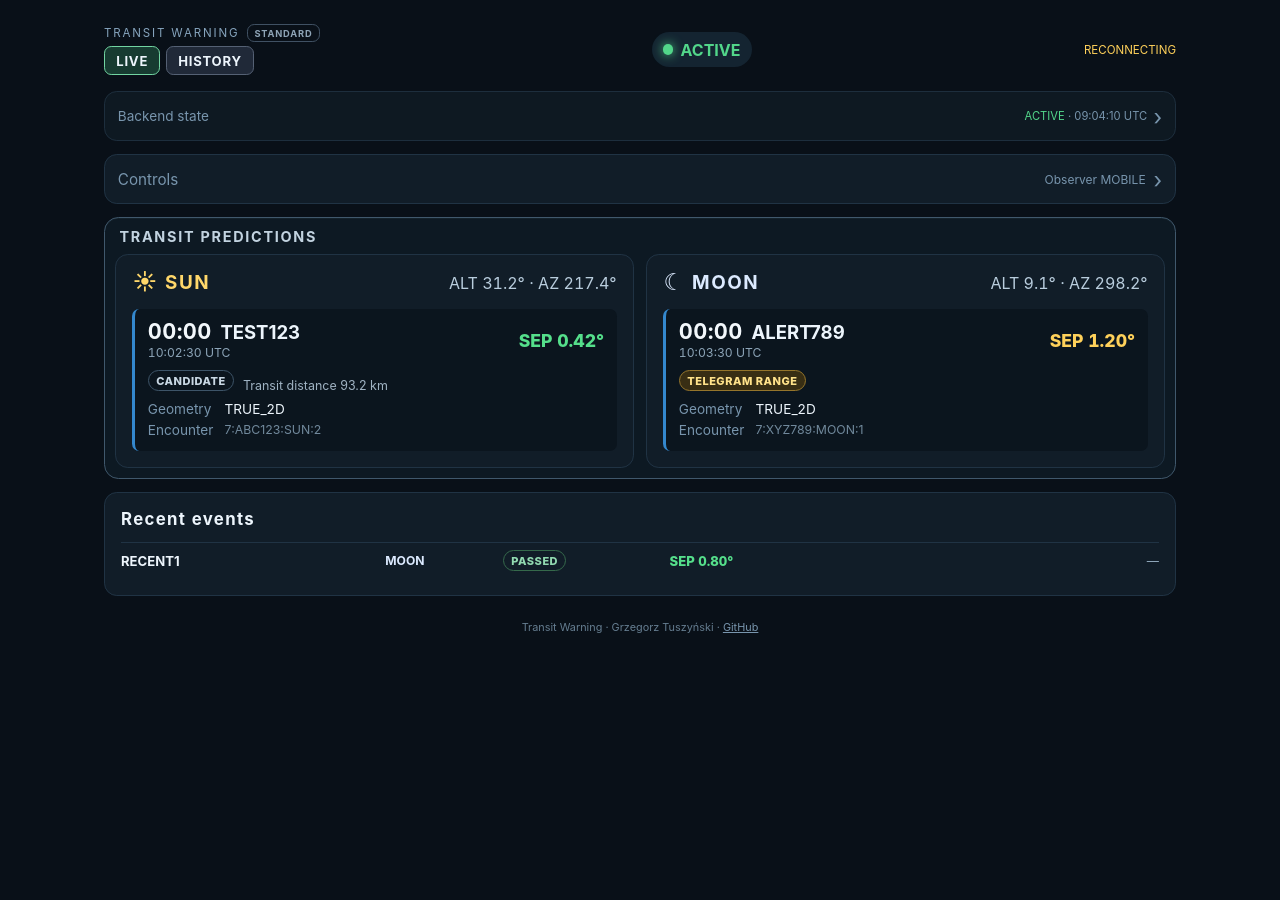
synchronized operational controls › surfaces browser GPS permission errors and clears the watch on cleanup
Click the button with aria-label "Expand Controls panel" at (148, 179), box [105, 155, 1175, 203]
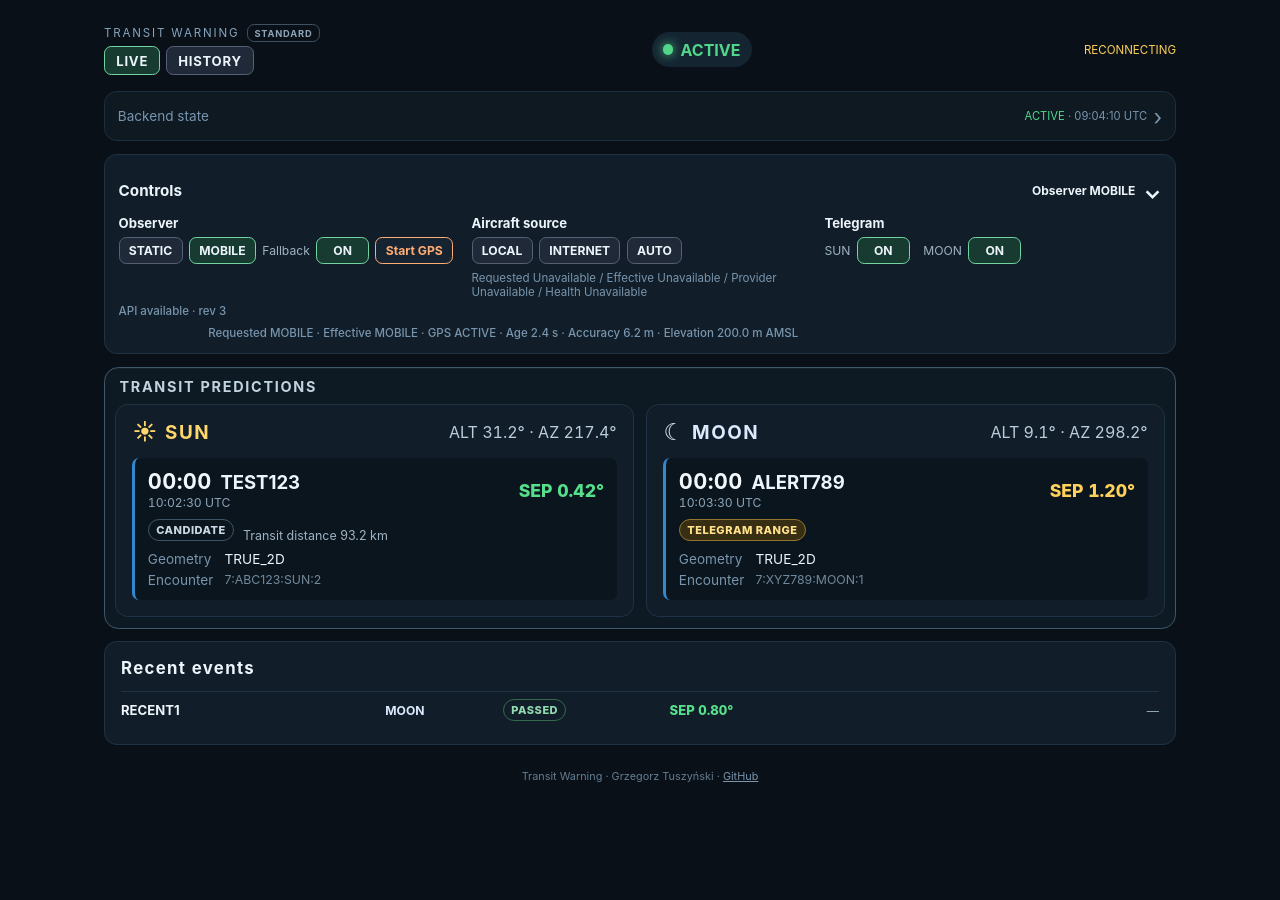
Click the button "Start GPS" at (414, 251), box [376, 237, 453, 264]
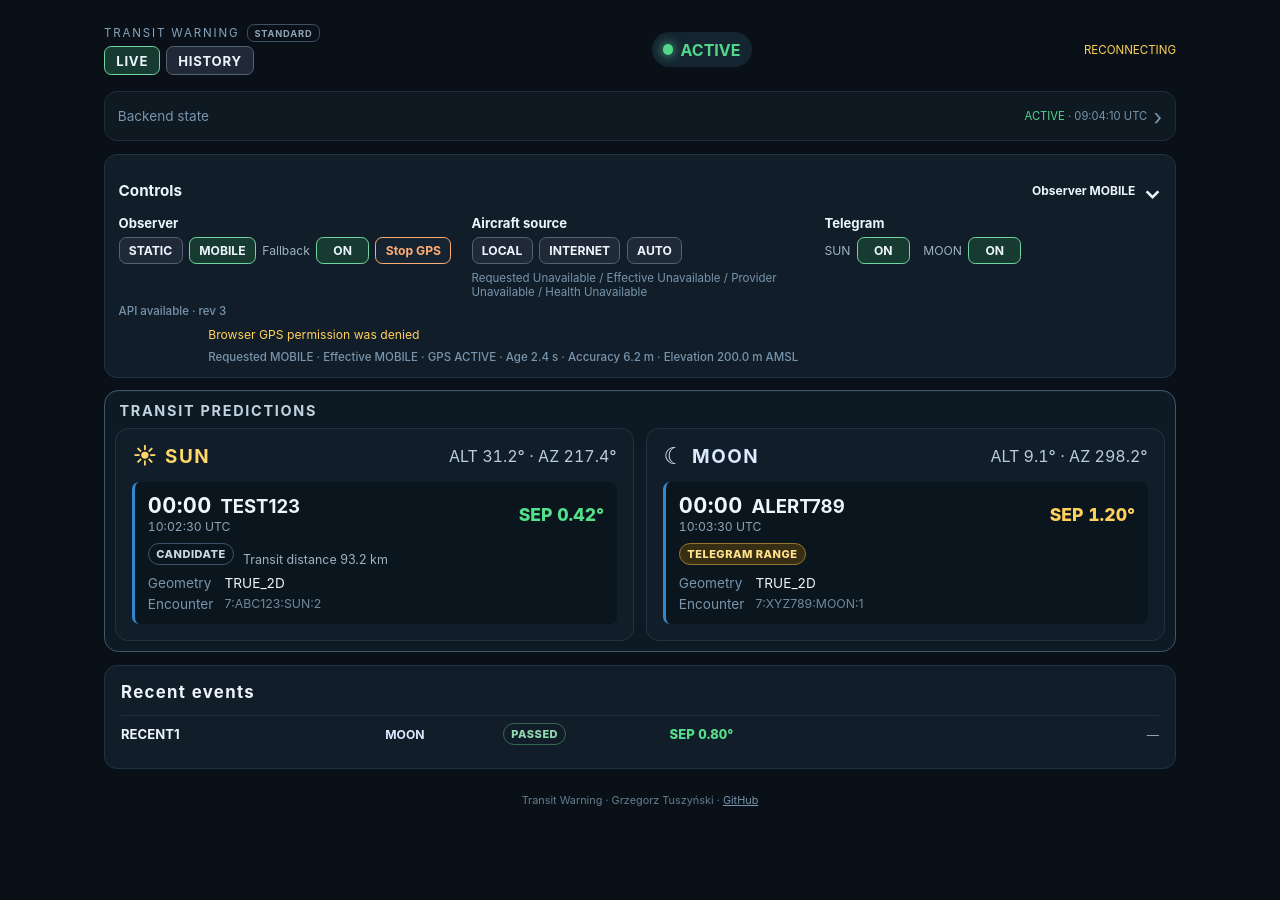
Expected: the message "Browser GPS permission was denied" is shown, [208, 327, 420, 342]
